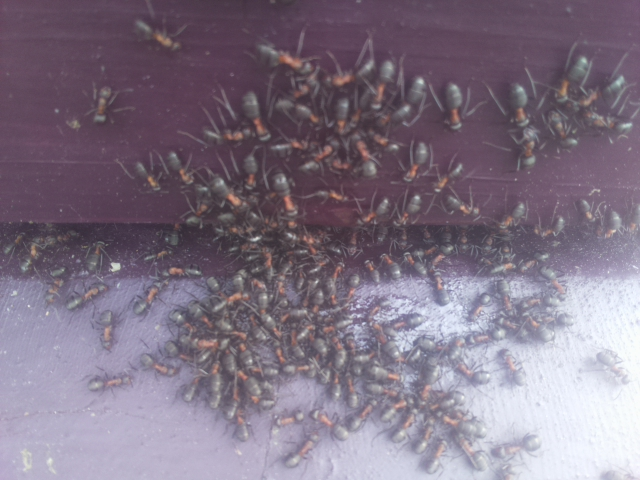ant: (377, 61, 437, 140), (437, 406, 500, 478), (499, 74, 546, 159), (126, 2, 188, 65), (245, 35, 315, 84), (547, 44, 598, 109), (363, 44, 403, 125), (155, 331, 219, 381), (126, 264, 176, 324), (214, 385, 256, 454), (235, 81, 276, 150), (199, 167, 256, 215), (305, 398, 357, 450), (264, 160, 304, 227), (345, 125, 387, 188), (198, 272, 256, 317), (277, 426, 326, 478), (58, 277, 116, 318), (484, 198, 534, 245), (575, 105, 640, 140), (484, 430, 550, 464), (543, 103, 584, 155), (293, 139, 342, 179), (349, 190, 397, 229), (326, 56, 384, 88), (389, 187, 427, 234), (87, 304, 122, 355), (194, 120, 260, 147), (389, 405, 429, 448), (401, 131, 431, 188), (372, 316, 406, 365), (328, 86, 357, 143), (80, 368, 138, 396), (423, 261, 455, 311), (128, 156, 167, 197), (428, 153, 466, 195), (164, 145, 198, 191), (438, 80, 468, 132), (591, 349, 634, 385), (447, 357, 495, 388), (420, 433, 452, 477), (438, 190, 483, 220), (135, 353, 181, 382), (86, 82, 116, 122), (501, 341, 523, 393), (239, 150, 264, 194), (531, 213, 570, 241), (524, 312, 559, 343), (290, 97, 325, 128), (539, 261, 565, 302), (15, 243, 46, 276), (44, 268, 67, 306), (570, 196, 600, 225), (413, 418, 435, 457), (497, 276, 516, 319), (380, 250, 404, 283), (183, 201, 212, 227), (469, 289, 492, 321)
